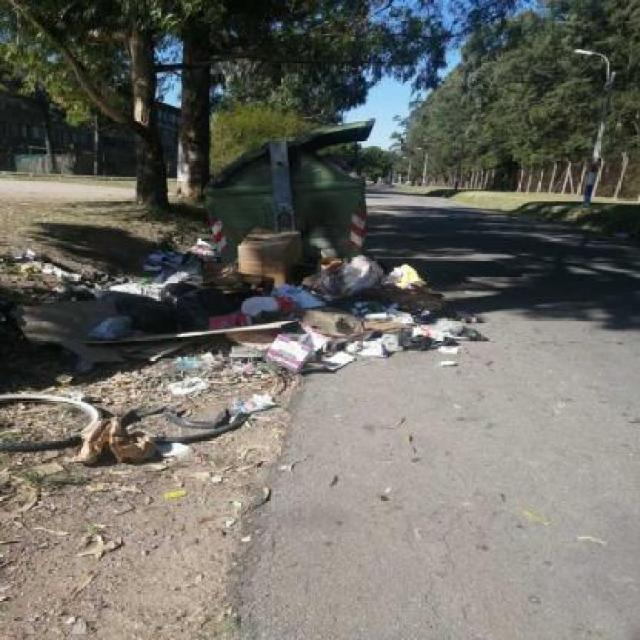garbage: (102, 216, 508, 433), (0, 250, 106, 376), (18, 392, 150, 476)
